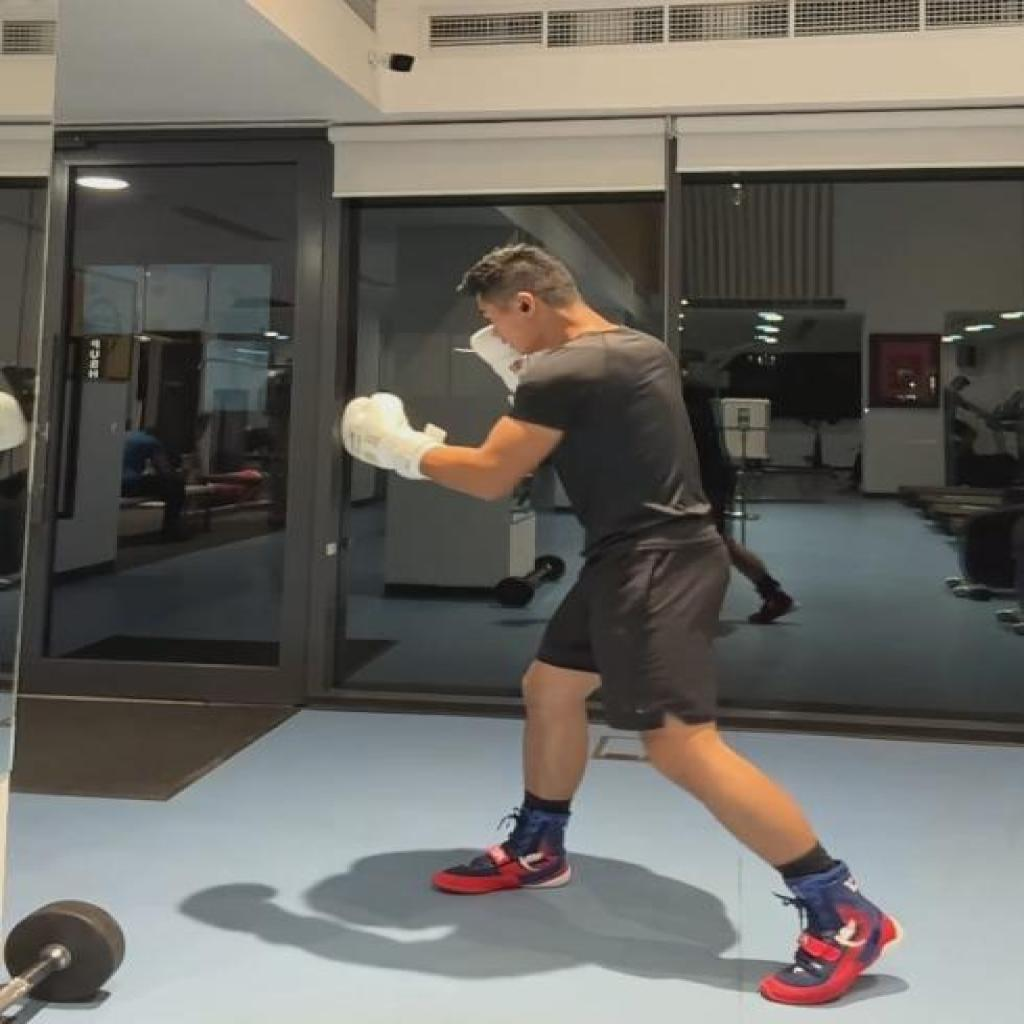uppercut: (337, 244, 909, 1010)
